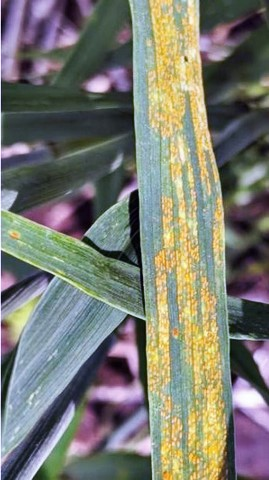Leaf Rust: (117, 39, 243, 472)
